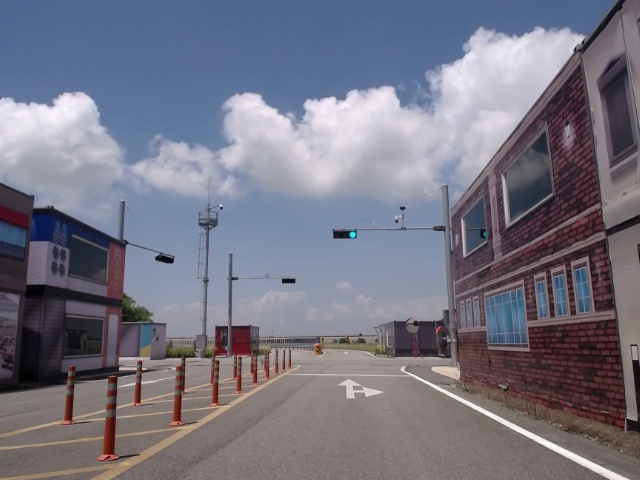green_3: (333, 230, 357, 239)
